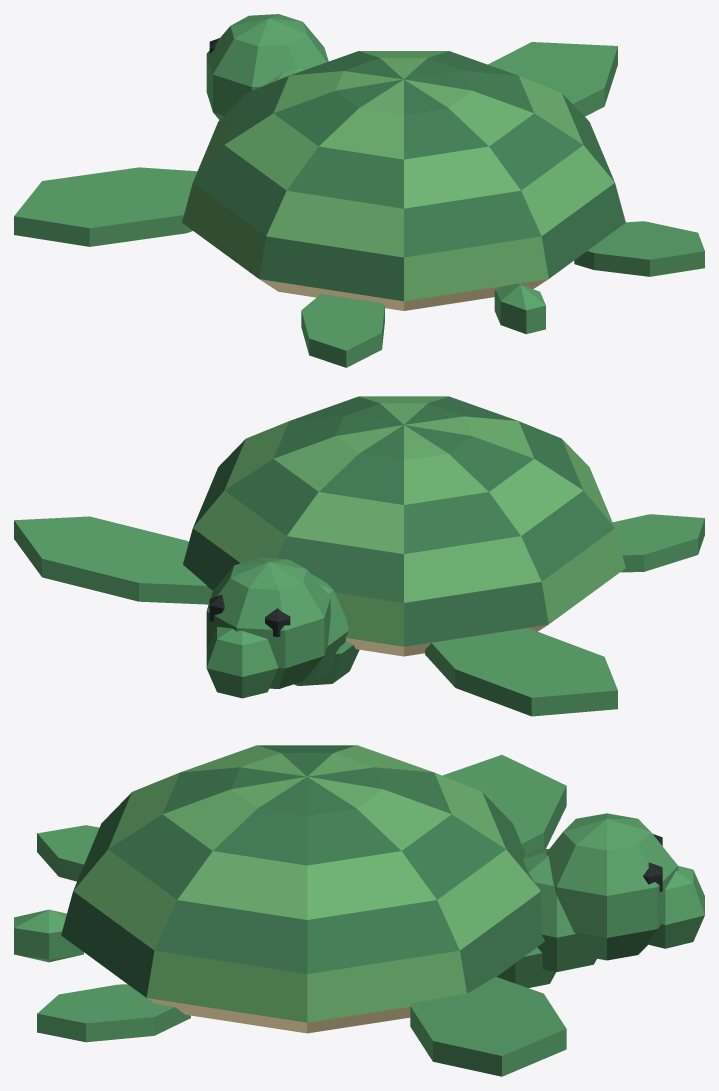
File: xy_creature_turtle.glb
The picture shows the model from 3 angles, top to bottom: view 1: azimuth 30°, elevation 25°; view 2: azimuth 150°, elevation 25°; view 3: azimuth 270°, elevation 25°; orthographic projection. The views are drawn at different scales.
Visible parts, largest first — view 1: Body, FlipperR, FlipperL; view 2: Body, FlipperR, FlipperL; view 3: Body, FlipperL, FlipperR.
Part boxes in pixels (bbox=[...]): Body: bbox=[182, 14, 704, 367]; FlipperR: bbox=[14, 167, 197, 246]; FlipperL: bbox=[488, 42, 617, 116]; Body: bbox=[183, 396, 704, 698]; FlipperR: bbox=[425, 628, 617, 716]; FlipperL: bbox=[14, 516, 212, 604]; Body: bbox=[14, 745, 704, 1042]; FlipperL: bbox=[410, 976, 566, 1076]; FlipperR: bbox=[442, 755, 566, 854].
Size of the model in its own units: 1.86 by 0.562 by 1.66.
